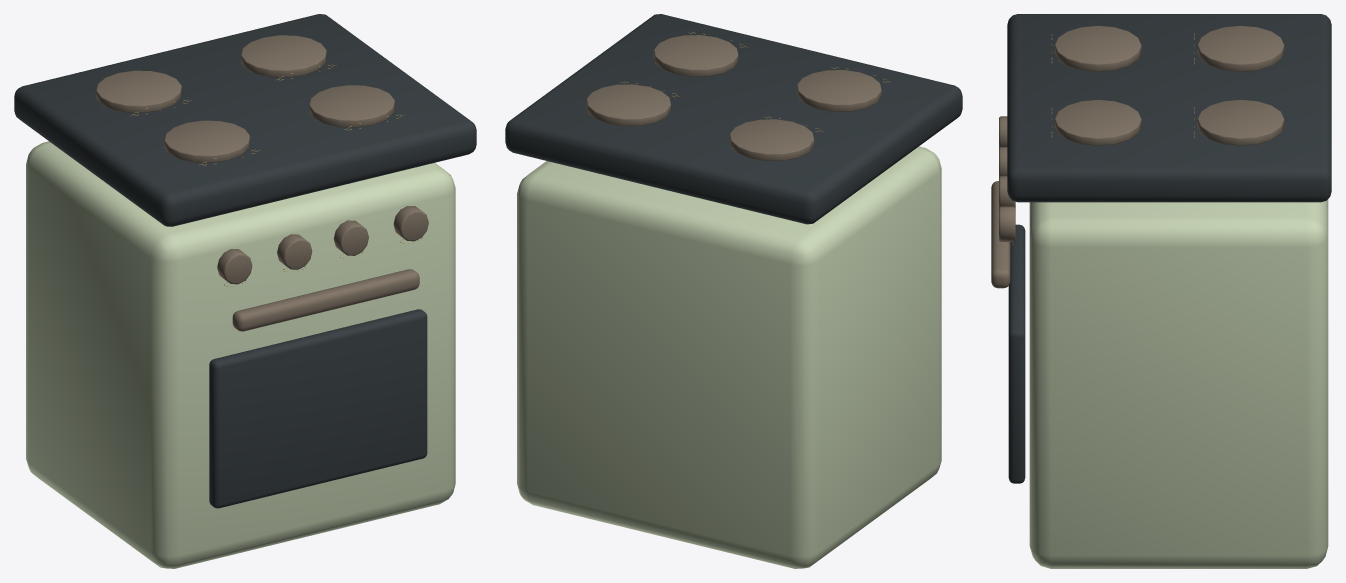
File: range-oven.glb
3 renders of one model, left to right at view 1: azimuth 30°, elevation 25°; view 2: azimuth 150°, elevation 25°; view 3: azimuth 270°, elevation 25°, orthographic. The views are drawn at different scales.
Parts seen in each view (by area): view 1: range-oven; view 2: range-oven; view 3: range-oven.
Part boxes in pixels (<box>): range-oven: <box>14,14,476,568</box>; range-oven: <box>505,14,962,568</box>; range-oven: <box>991,14,1331,568</box>.
Bounding box in the file's own units: 0.76 × 0.92 × 0.68.
